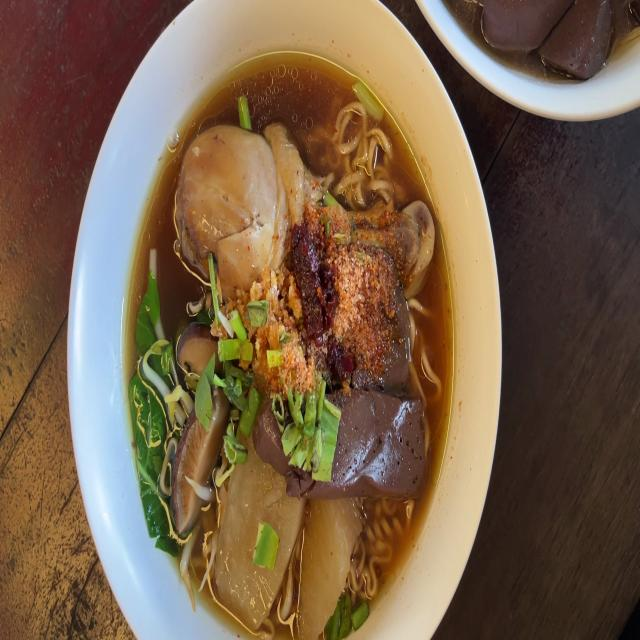noodle: (112, 44, 460, 640)
